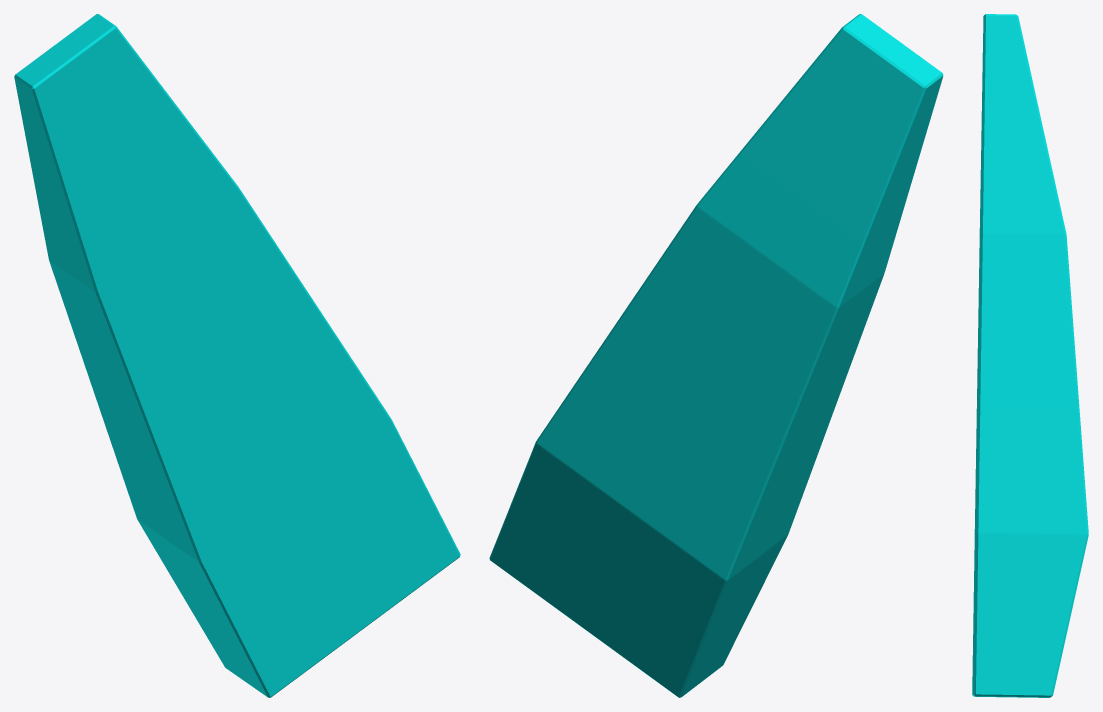
Rendered from AST_inputTerminal_selecKnob.fbx.
3 views of the same model, side by side, from view 1: azimuth 30°, elevation 25°; view 2: azimuth 150°, elevation 25°; view 3: azimuth 270°, elevation 25° (orthographic). The views are drawn at different scales.
Visible parts, largest first — view 1: MSH_inputTerminal_selecKnob; view 2: MSH_inputTerminal_selecKnob; view 3: MSH_inputTerminal_selecKnob.
Part boxes in pixels (x1,y1,x2,y2): MSH_inputTerminal_selecKnob: [14, 14, 460, 697]; MSH_inputTerminal_selecKnob: [489, 14, 943, 697]; MSH_inputTerminal_selecKnob: [972, 14, 1088, 697].
Size of the model in its own units: 19.56 by 31.09 by 5.3.
